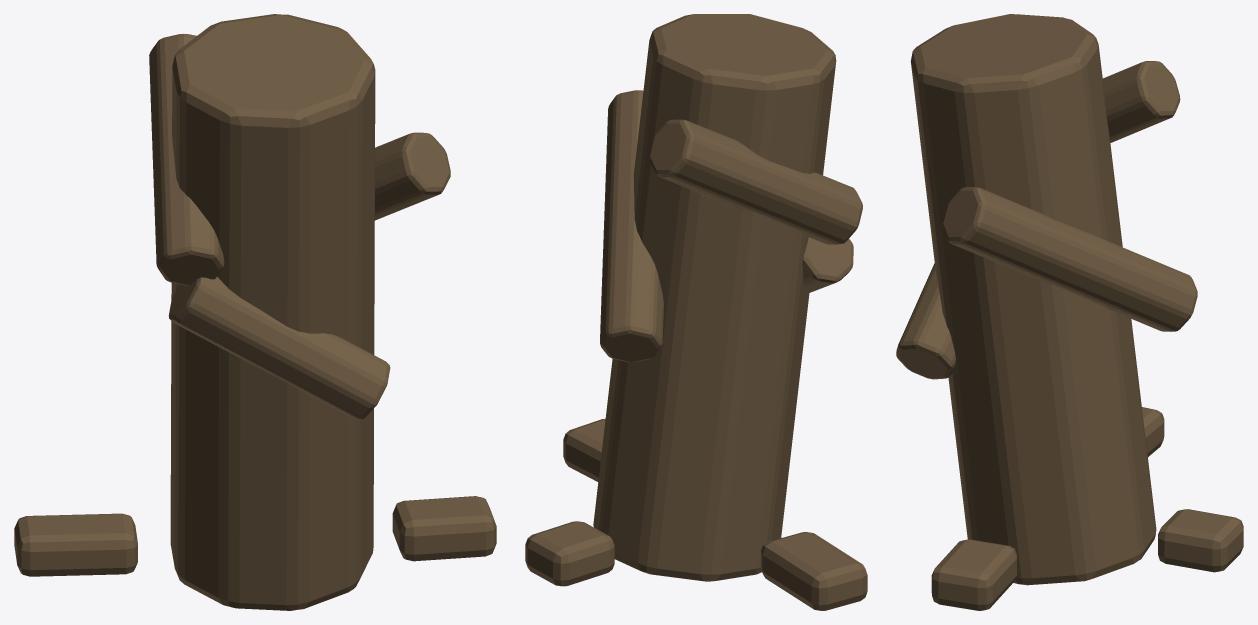
Rendered from ff_stm_01_v1.glb.
3 views of the same model, side by side, from view 1: azimuth 30°, elevation 25°; view 2: azimuth 150°, elevation 25°; view 3: azimuth 270°, elevation 25° (orthographic). The views are drawn at different scales.
Parts seen in each view (by area): view 1: split_trunk, dead_branch_2, dead_branch_1, exposed_root_0, exposed_root_1, dead_branch_0; view 2: split_trunk, dead_branch_1, dead_branch_0, exposed_root_0, exposed_root_2, dead_branch_2, exposed_root_1; view 3: split_trunk, dead_branch_0, exposed_root_1, dead_branch_1, exposed_root_2, dead_branch_2, exposed_root_0.
Boxes of the visible parts, x1=… form: split_trunk: x1=170, y1=14, x2=375, y2=610; dead_branch_2: x1=168, y1=276, x2=390, y2=419; dead_branch_1: x1=149, y1=33, x2=224, y2=285; exposed_root_0: x1=14, y1=513, x2=137, y2=576; exposed_root_1: x1=392, y1=496, x2=496, y2=561; dead_branch_0: x1=374, y1=132, x2=450, y2=220; split_trunk: x1=593, y1=14, x2=836, y2=581; dead_branch_1: x1=649, y1=119, x2=862, y2=244; dead_branch_0: x1=600, y1=90, x2=663, y2=362; exposed_root_0: x1=761, y1=532, x2=867, y2=610; exposed_root_2: x1=525, y1=521, x2=614, y2=586; dead_branch_2: x1=802, y1=237, x2=853, y2=292; exposed_root_1: x1=563, y1=418, x2=605, y2=481; split_trunk: x1=910, y1=14, x2=1156, y2=585; dead_branch_0: x1=942, y1=187, x2=1197, y2=331; exposed_root_1: x1=931, y1=539, x2=1016, y2=610; dead_branch_1: x1=1102, y1=61, x2=1180, y2=142; exposed_root_2: x1=1158, y1=509, x2=1243, y2=572; dead_branch_2: x1=896, y1=263, x2=955, y2=379; exposed_root_0: x1=1142, y1=407, x2=1164, y2=456.
Bounding box in the file's own units: 1.82 × 2.42 × 1.49.
